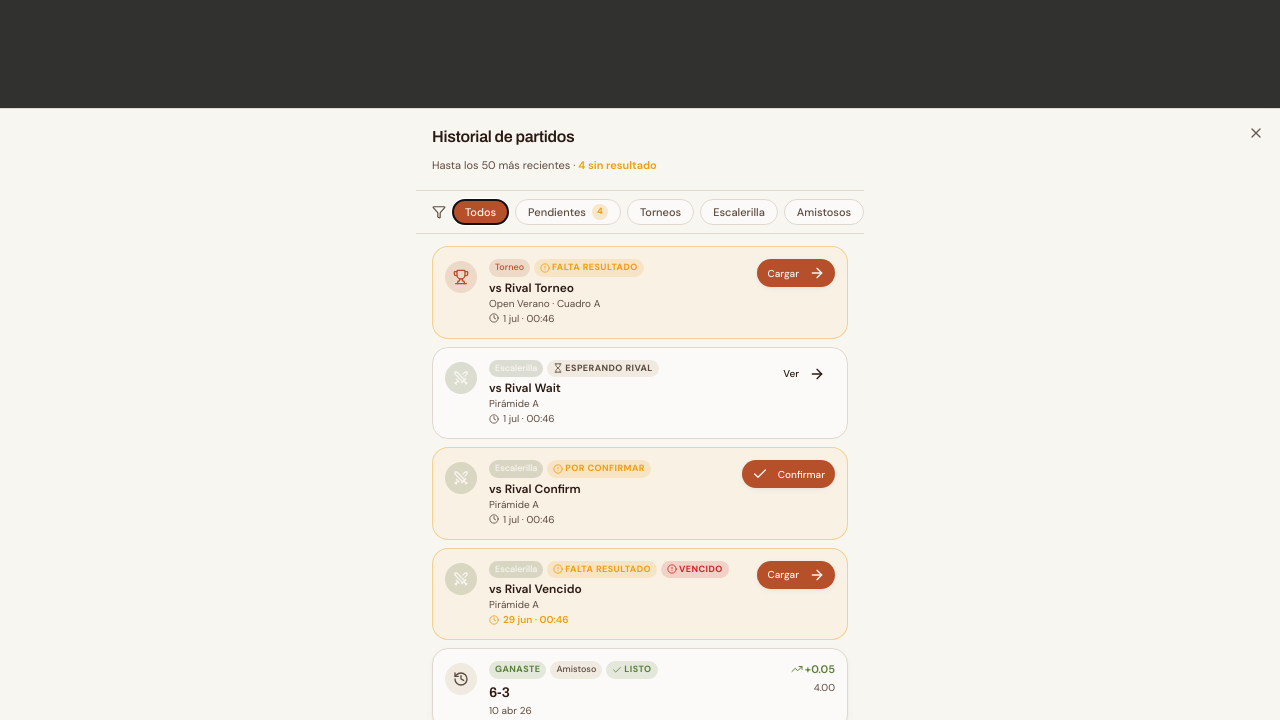
MatchHistorySheet — variables y estados › confirmar con error: muestra toast y botón cambia a Reintentar
This screenshot has width=1280, height=720.
Expected: the text "Por confirmar" is shown, x1=547 y1=460 x2=651 y2=478
Click the button with aria-label "confirmar resultado vs rival confirm" at (788, 474), box x1=742 y1=460 x2=835 y2=488
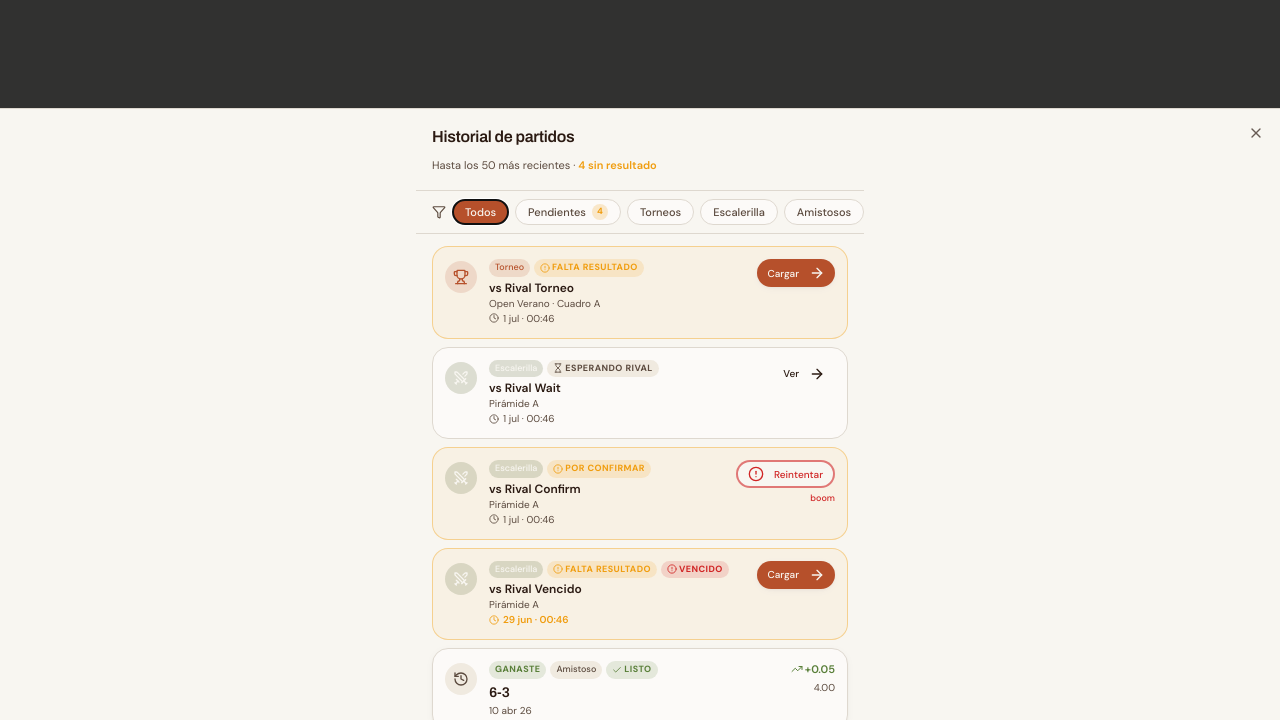
Expected: the button with aria-label "reintentar confirmar resultado vs rival confirm" is shown, x1=736 y1=460 x2=835 y2=488
